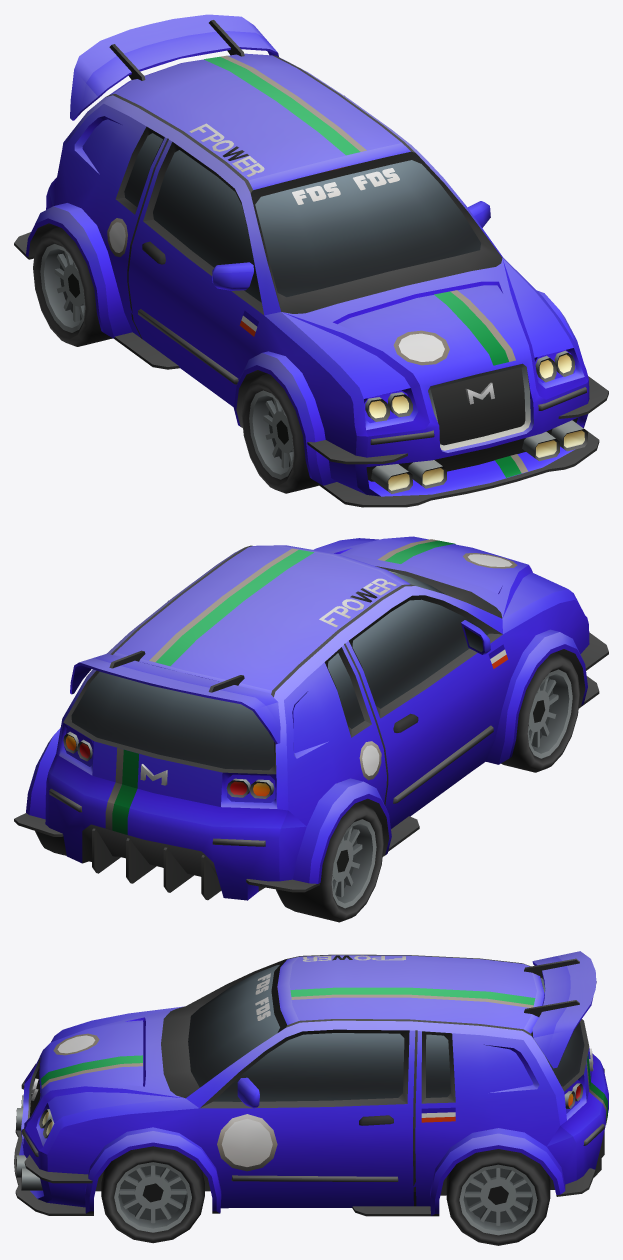
Rendered from Rally_Car_3A.fbx.
The picture shows the model from 3 angles, top to bottom: view 1: azimuth 30°, elevation 25°; view 2: azimuth 150°, elevation 25°; view 3: azimuth 270°, elevation 25°; orthographic projection. The views are drawn at different scales.
Parts seen in each view (by area): view 1: Rally_Car_3A, Rally_Car_3A_Livery, Rally_Car_3A_Spoiler, Wheel_3A_F.R, Wheel_3A_R.R, Rally_Car_3A_Front_Skirt, Rally_Car_3A_Lights, Rally_Car_3A_Side_Skirts; view 2: Rally_Car_3A, Rally_Car_3A_Livery, Wheel_3A_R.R, Wheel_3A_F.R, Rally_Car_3A_Spoiler, Rally_Car_3A_Diffuser, Rally_Car_3A_Front_Skirt, Rally_Car_3A_Side_Skirts; view 3: Rally_Car_3A, Rally_Car_3A_Livery, Wheel_3A_R.L, Wheel_3A_F.L, Rally_Car_3A_Spoiler, Rally_Car_3A_Front_Skirt, Rally_Car_3A_Side_Skirts, Rally_Car_3A_Lights, Rally_Car_3A_Diffuser.
Part boxes in pixels (box(x1,y1,x2,y2)): Rally_Car_3A: box(26, 53, 589, 496); Rally_Car_3A_Livery: box(107, 55, 528, 477); Rally_Car_3A_Spoiler: box(70, 14, 278, 120); Wheel_3A_F.R: box(241, 374, 318, 493); Wheel_3A_R.R: box(33, 227, 112, 346); Rally_Car_3A_Front_Skirt: box(307, 376, 608, 507); Rally_Car_3A_Lights: box(371, 420, 587, 493); Rally_Car_3A_Side_Skirts: box(114, 332, 179, 369); Rally_Car_3A: box(26, 536, 589, 900); Rally_Car_3A_Livery: box(105, 539, 517, 834); Wheel_3A_R.R: box(276, 802, 383, 922); Wheel_3A_F.R: box(501, 653, 579, 772); Rally_Car_3A_Spoiler: box(70, 650, 280, 744); Rally_Car_3A_Diffuser: box(14, 813, 319, 900); Rally_Car_3A_Front_Skirt: box(578, 632, 608, 708); Rally_Car_3A_Side_Skirts: box(388, 816, 419, 851); Rally_Car_3A: box(19, 954, 608, 1216); Rally_Car_3A_Livery: box(41, 955, 607, 1171); Wheel_3A_R.L: box(446, 1149, 550, 1245); Wheel_3A_F.L: box(101, 1146, 204, 1243); Rally_Car_3A_Spoiler: box(524, 951, 596, 1068); Rally_Car_3A_Front_Skirt: box(14, 1130, 93, 1215); Rally_Car_3A_Side_Skirts: box(352, 1206, 430, 1216); Rally_Car_3A_Lights: box(16, 1095, 42, 1190); Rally_Car_3A_Diffuser: box(556, 1131, 604, 1196).
Size of the model in its own units: 237 by 185 by 483.
